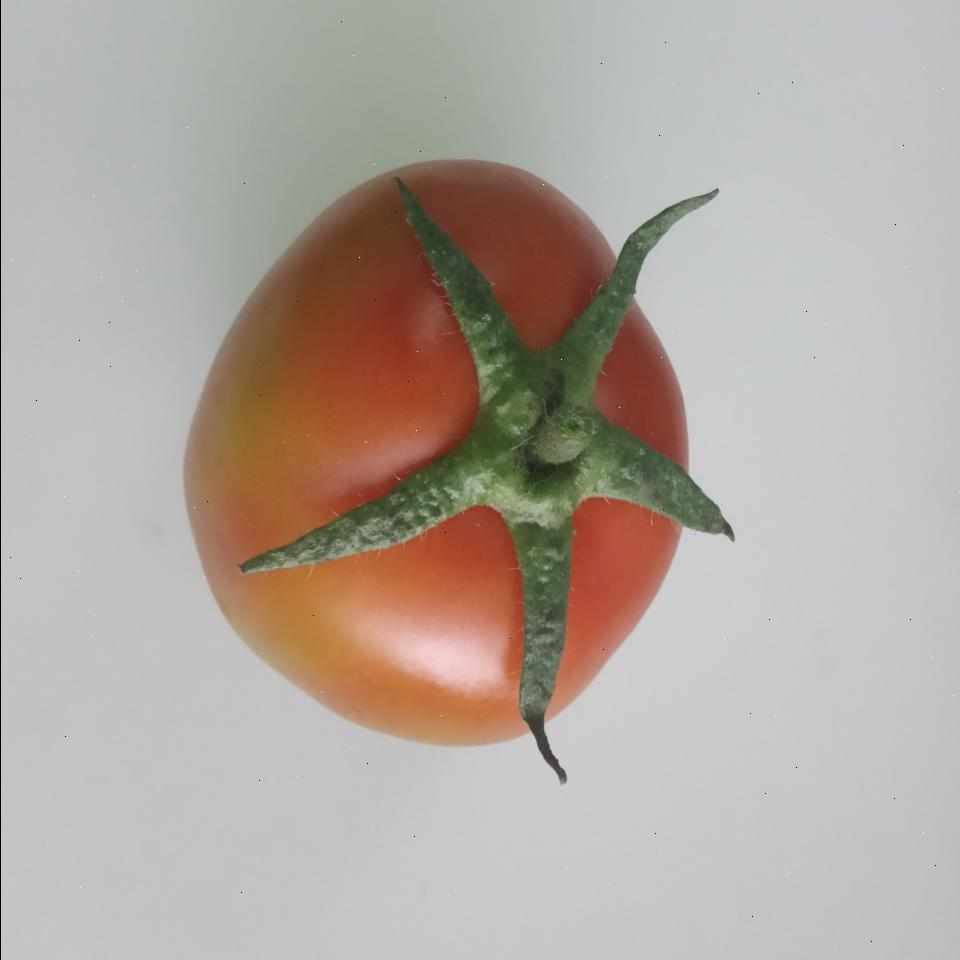Healthy: (180, 159, 698, 752)
